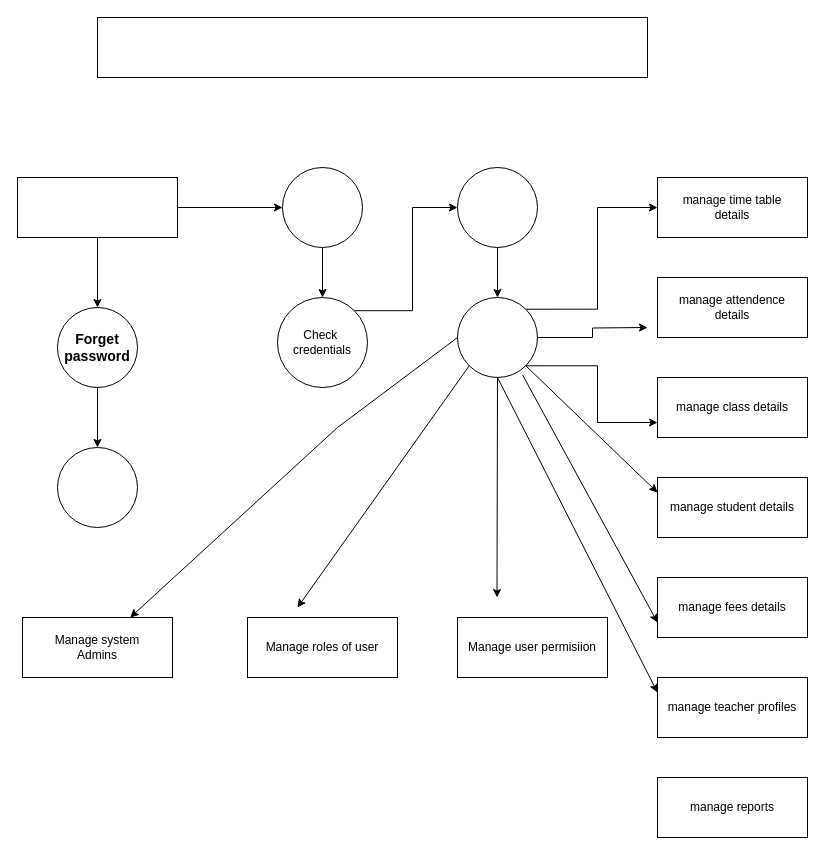
Some shapes in this 825 by 855 pixel diagram are drawn without their labels. The shapes that lost their labels are listed below. From the top down, each one's box as (x1, y1, x2, y2) in pixels, then its label:
(96, 16, 648, 78): STUDNET INIFORMATION SYSTEM
(16, 176, 178, 238): Admin
(282, 166, 362, 248): Login system
(456, 166, 538, 248): Check roles of access
(456, 296, 538, 378): Mange modules
(56, 446, 138, 528): Send Email to user
